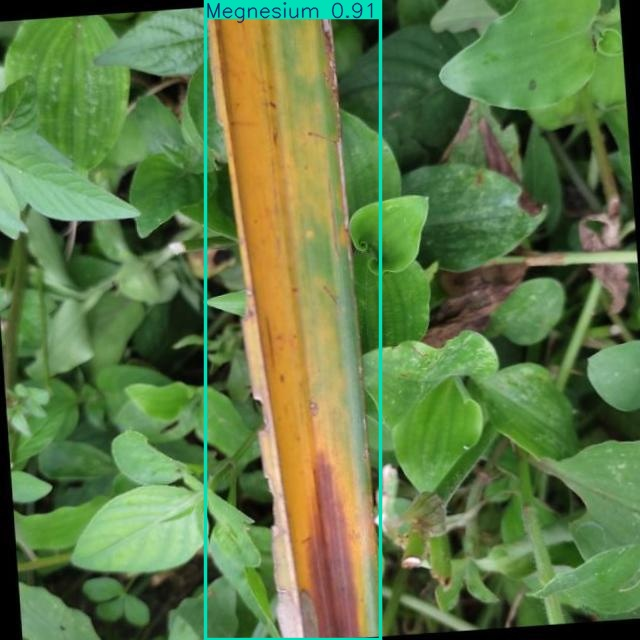Megnesium: (205, 1, 381, 640)
